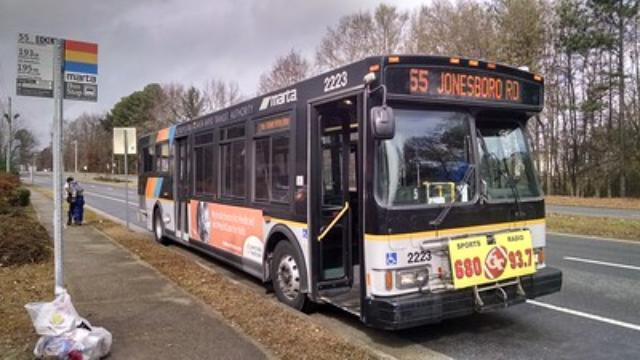bus: (136, 54, 562, 330)
